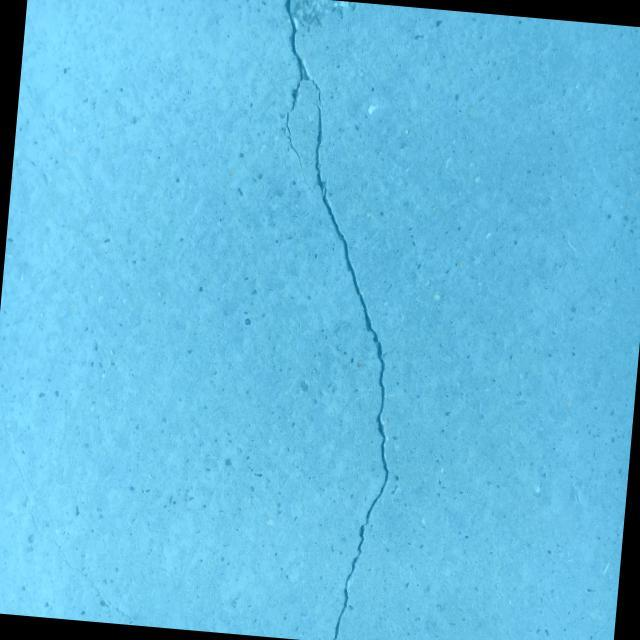crack: (229, 0, 430, 640)
